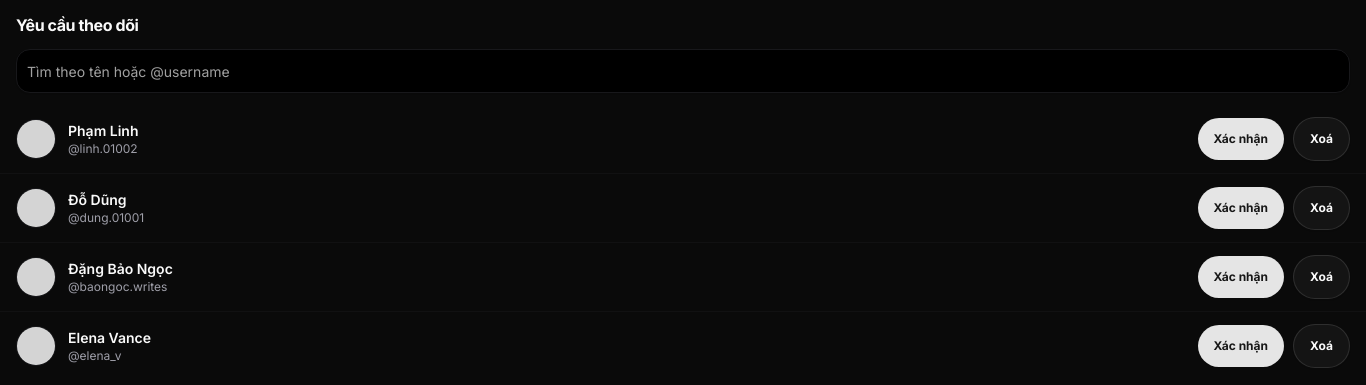
it: FollowRequestList › deletes a request without a follow
Expected: the text "Elena Vance" is shown, 68,328 -> 151,348
Step 1. Click the button "Xoá" in the row of "Phạm Linh" → [1322, 139], box 1293,117 -> 1350,161
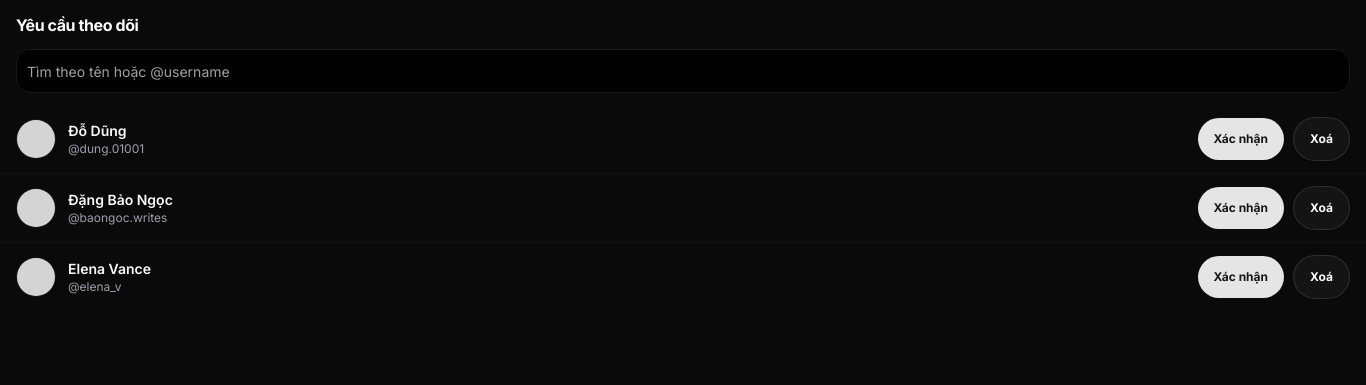
Expected: the number of buttons "Xoá" is 3, 1293,117 -> 1350,161; 1293,186 -> 1350,230; 1293,255 -> 1350,299
